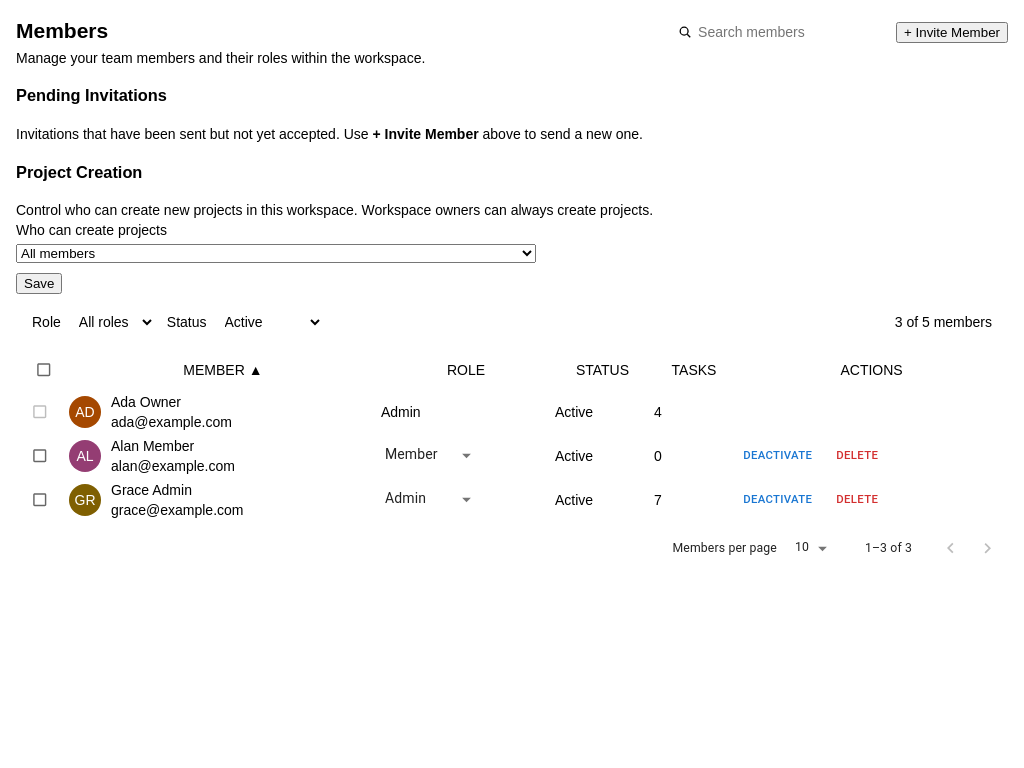
Test: JL-417 — inline role editing › surfaces a server rejection instead of silently reverting
Press the mouse on the dropdown labelled "Admin": (405, 498) 385,490 -> 426,506
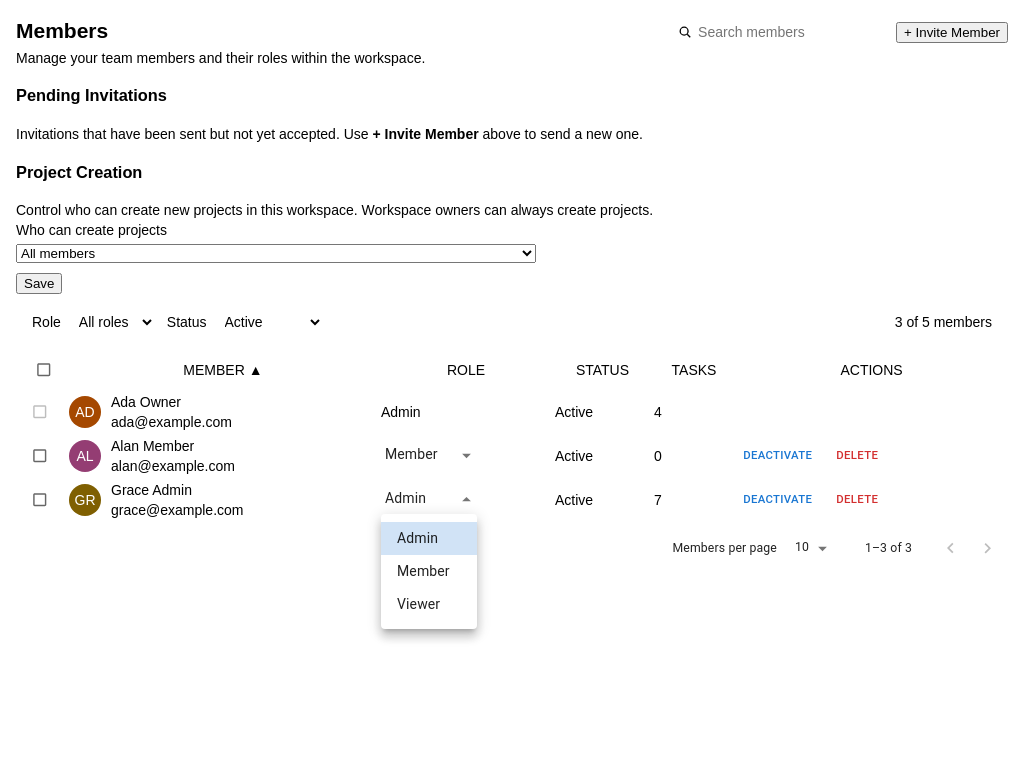
Click the option "Viewer": (419, 604) 397,596 -> 440,612
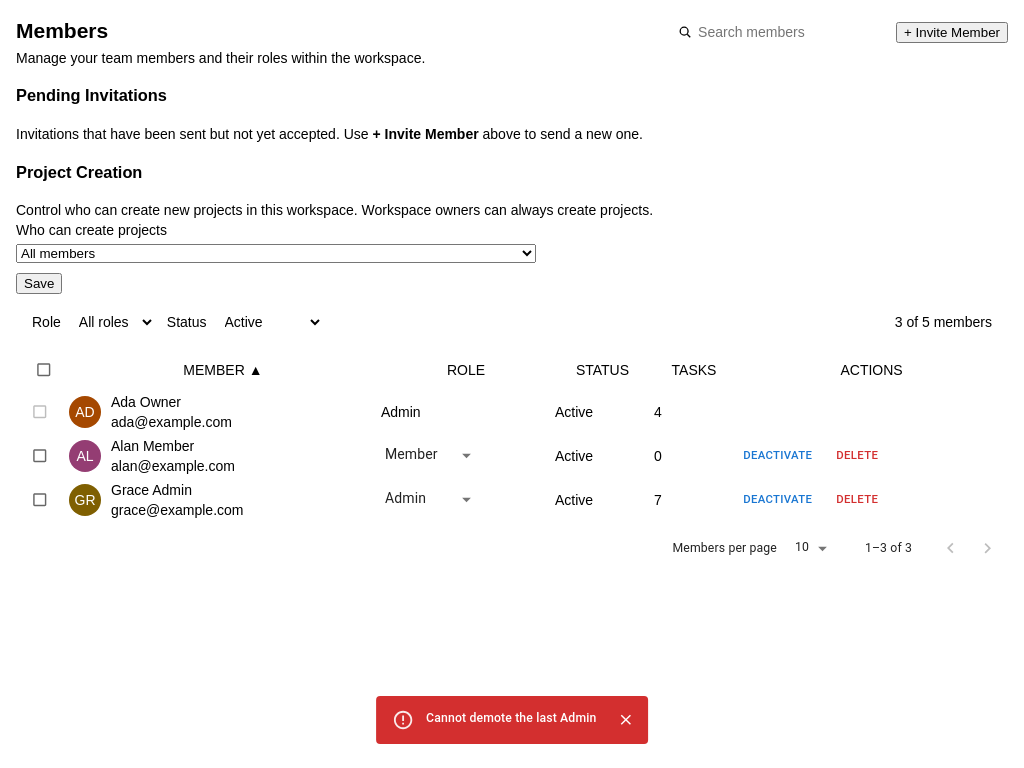
Now the text "Cannot demote the last Admin" is shown, box 426,711 -> 596,725
